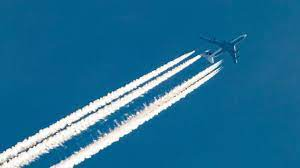plane: (190, 31, 247, 68)
